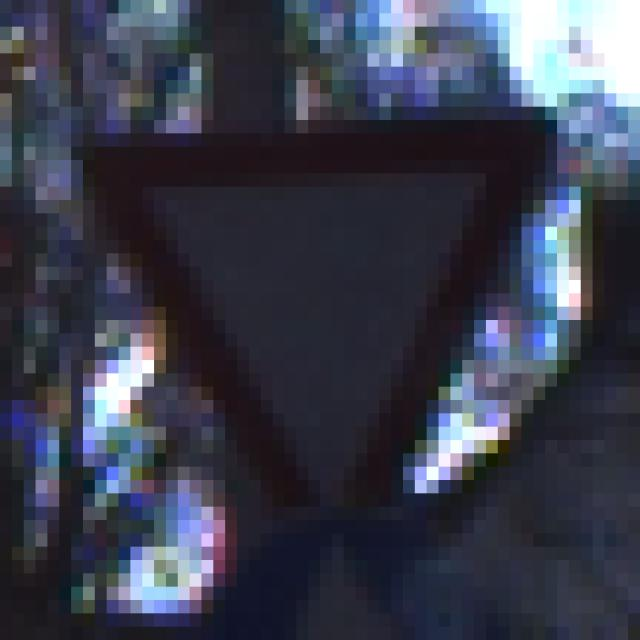Give Way: (60, 81, 582, 574)
